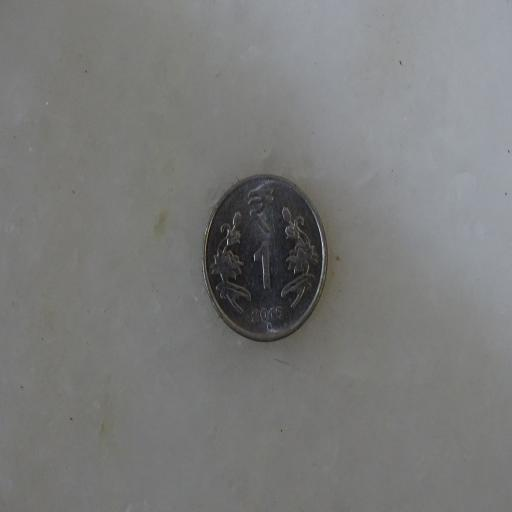rupee1: (201, 174, 329, 341)
